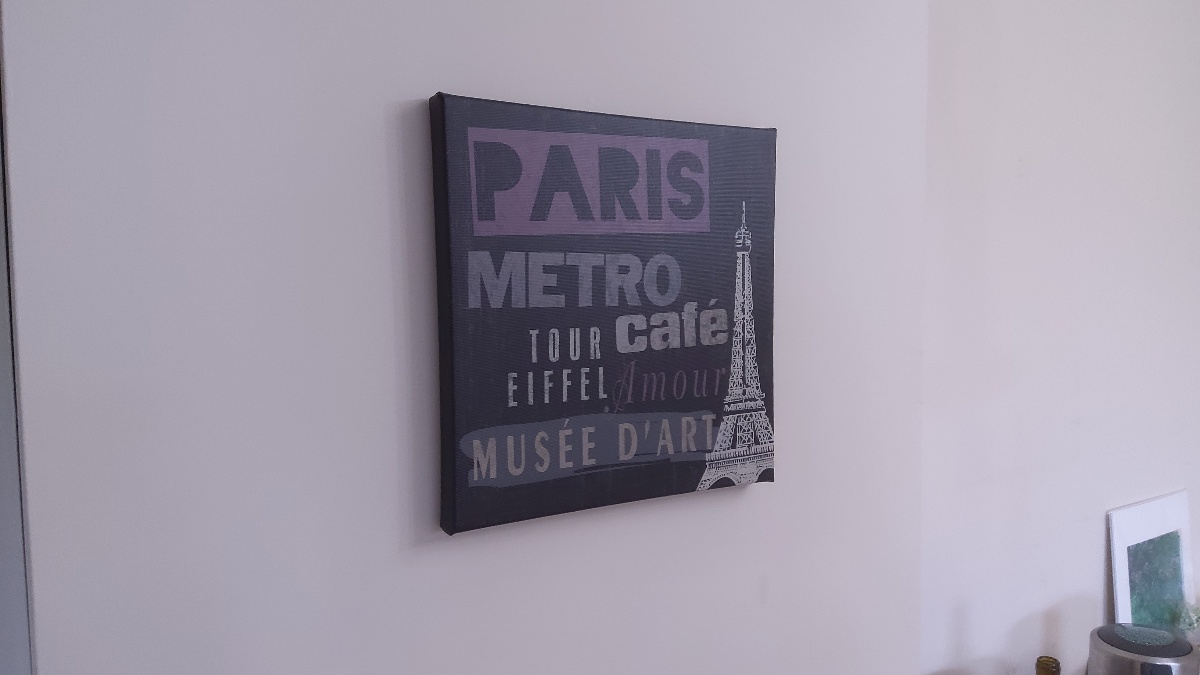poster: (424, 91, 788, 539)
